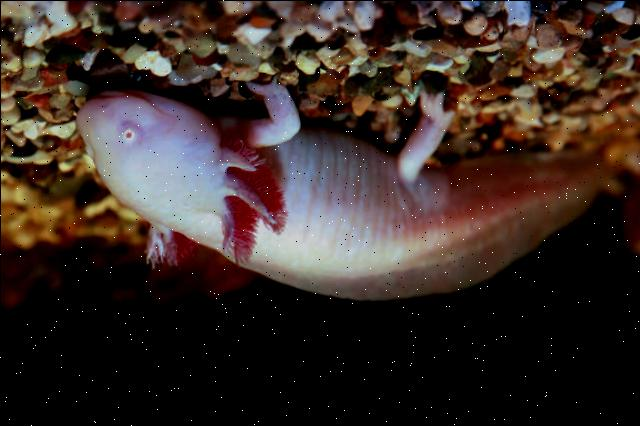Mulut: (63, 70, 151, 124)
Sirip Ekor: (507, 115, 638, 255)
